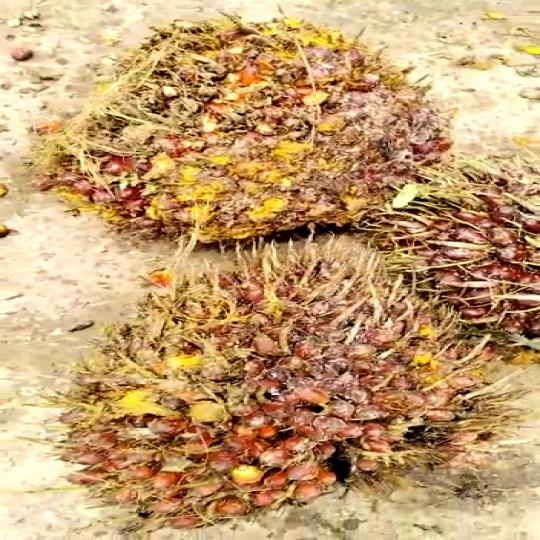masak: (41, 228, 510, 537), (10, 9, 480, 264)
